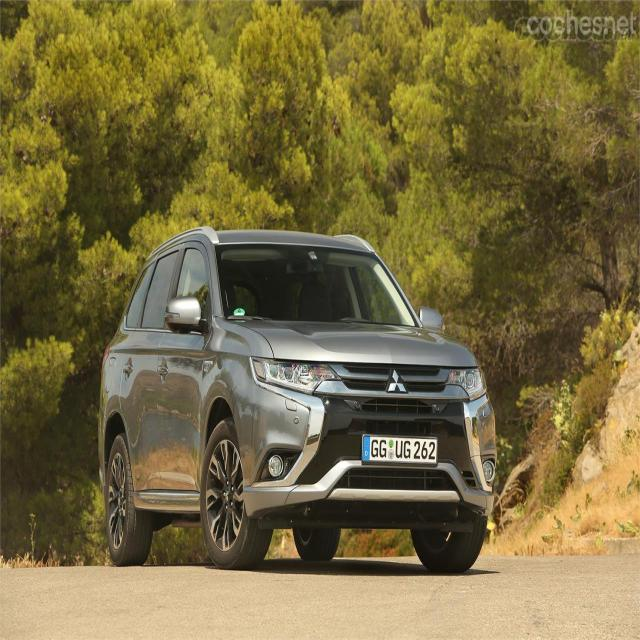light_vehicle: (97, 226, 497, 574)
